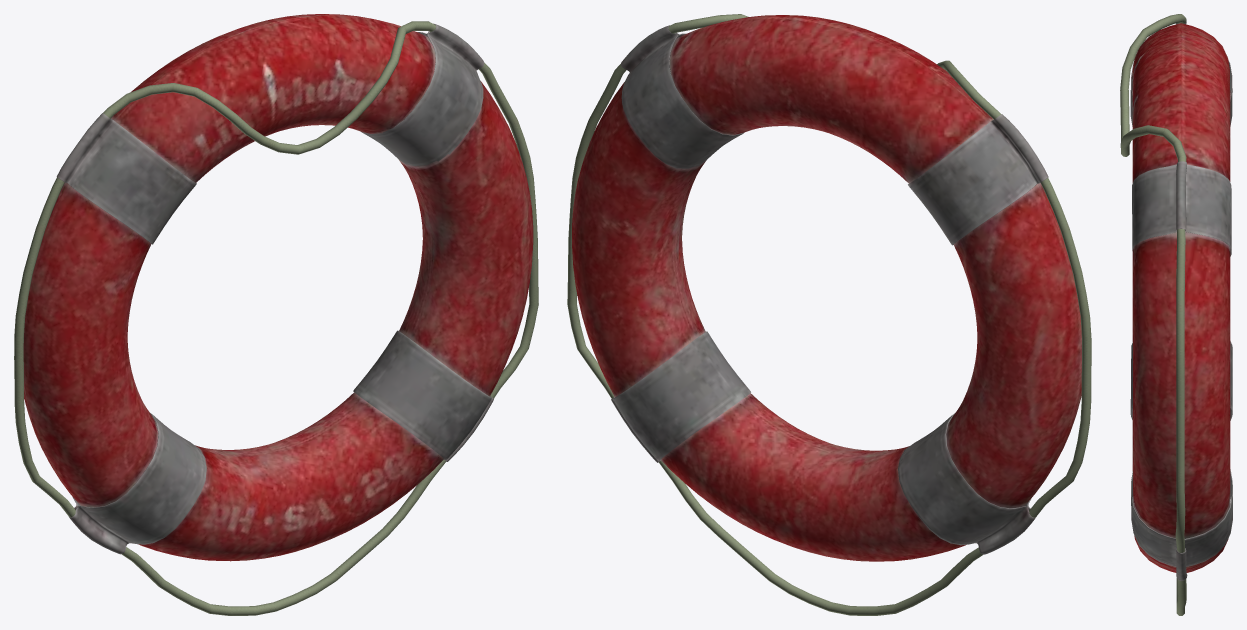
File: lifebuoy.glb
3 views of the same model, side by side, from view 1: azimuth 30°, elevation 25°; view 2: azimuth 150°, elevation 25°; view 3: azimuth 270°, elevation 25° (orthographic). The views are drawn at different scales.
Parts seen in each view (by area): view 1: lifebuoy; view 2: lifebuoy; view 3: lifebuoy.
Part boxes in pixels (x1,y1,x2,y2): lifebuoy: (14, 14, 538, 615); lifebuoy: (567, 14, 1091, 615); lifebuoy: (1120, 14, 1232, 615).
Bounding box in the file's own units: 0.7832 × 0.8412 × 0.1551.
Materials: 1 (1 with a texture image).
